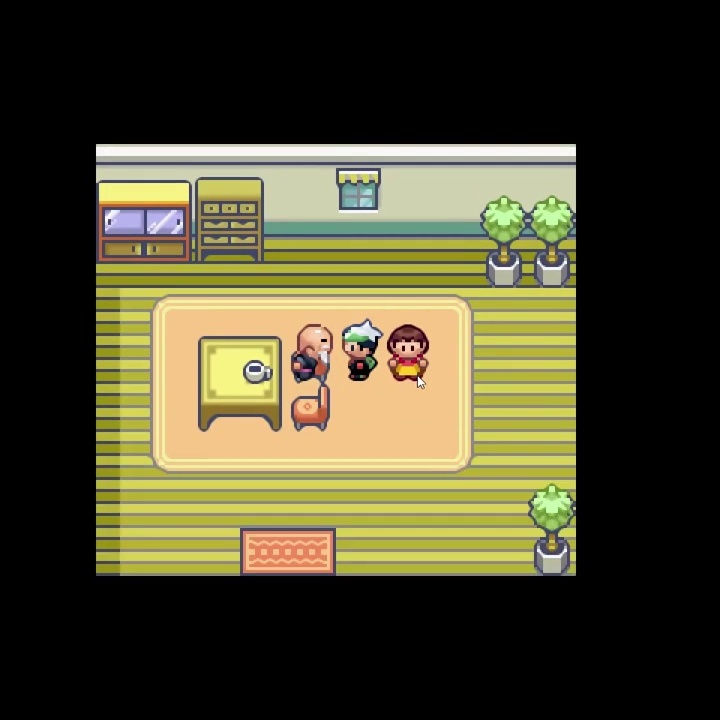agent: (341, 317, 383, 383)
exit: (238, 525, 338, 634)
npc: (383, 322, 431, 386), (288, 323, 335, 384)
